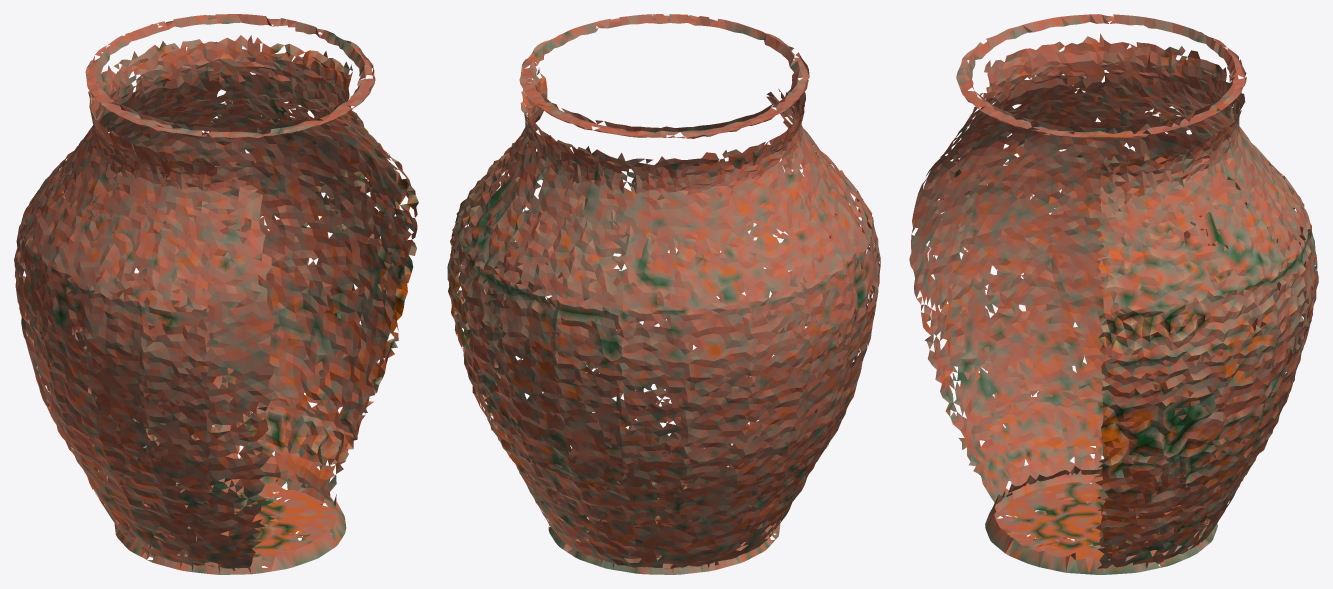
File: vase2_final300.obj
3 renders of one model, left to right at view 1: azimuth 30°, elevation 25°; view 2: azimuth 150°, elevation 25°; view 3: azimuth 270°, elevation 25°, orthographic.
Bounding box in the file's own units: 1.45 × 1.71 × 1.36.
